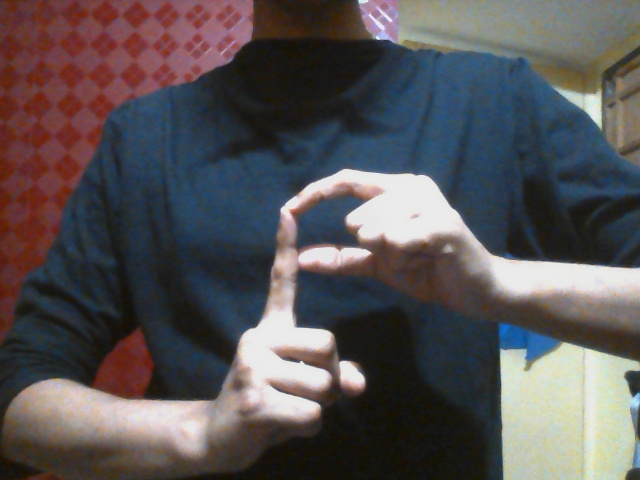P: (219, 167, 478, 449)
